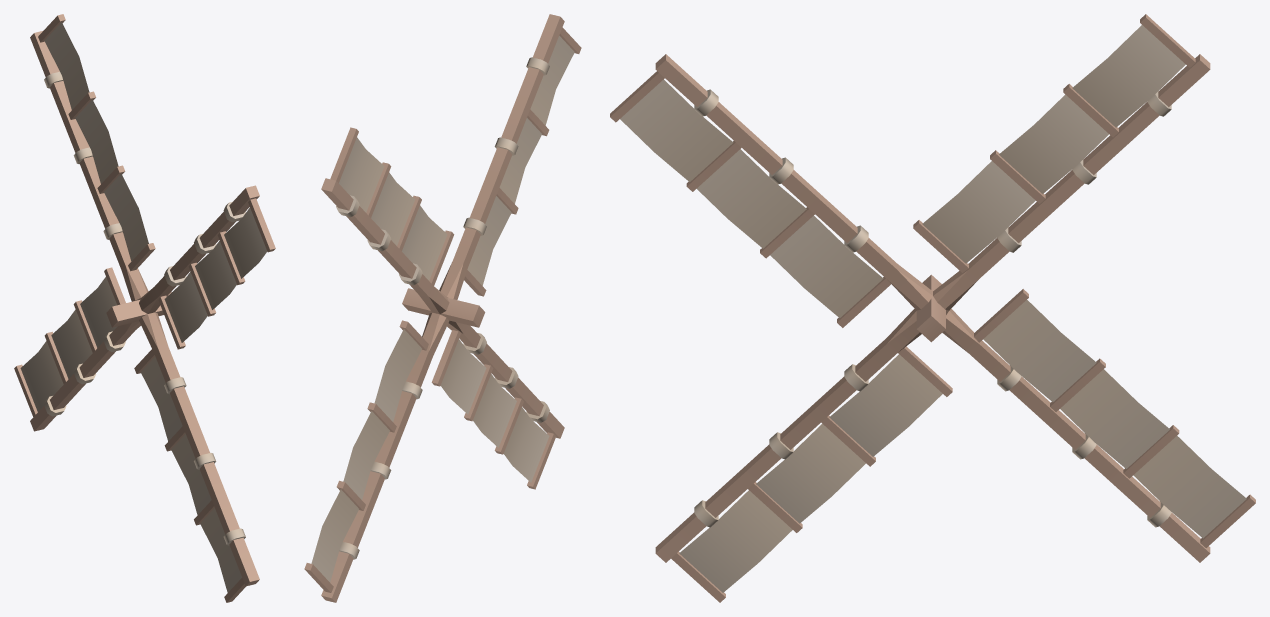
The model's file is windmill.glb.
3 renders of one model, left to right at view 1: azimuth 30°, elevation 25°; view 2: azimuth 150°, elevation 25°; view 3: azimuth 270°, elevation 25°, orthographic. The views are drawn at different scales.
Visible parts, largest first — view 1: windmill; view 2: windmill; view 3: windmill.
Boxes of the visible parts, box(x1,y1,x2,y2) form: windmill: box(14, 14, 275, 602); windmill: box(304, 14, 581, 602); windmill: box(610, 14, 1255, 602).
Bounding box in the file's own units: 0.471 × 3.11 × 3.11.
